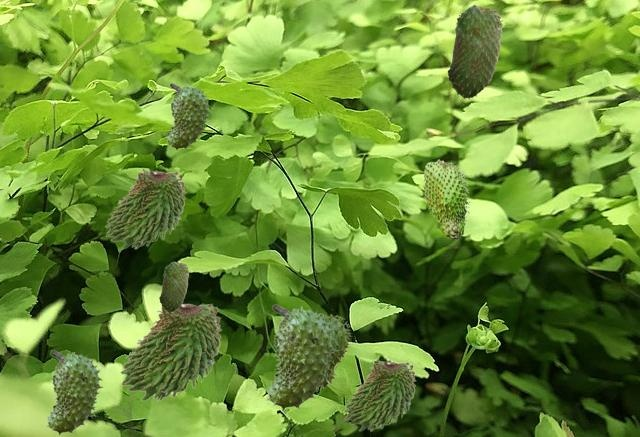guyabano: (119, 303, 221, 400), (265, 304, 338, 411), (104, 167, 185, 248), (343, 358, 415, 430), (447, 4, 502, 98), (45, 350, 103, 435), (422, 159, 469, 240), (165, 83, 211, 150), (320, 313, 351, 389), (159, 261, 188, 311)
